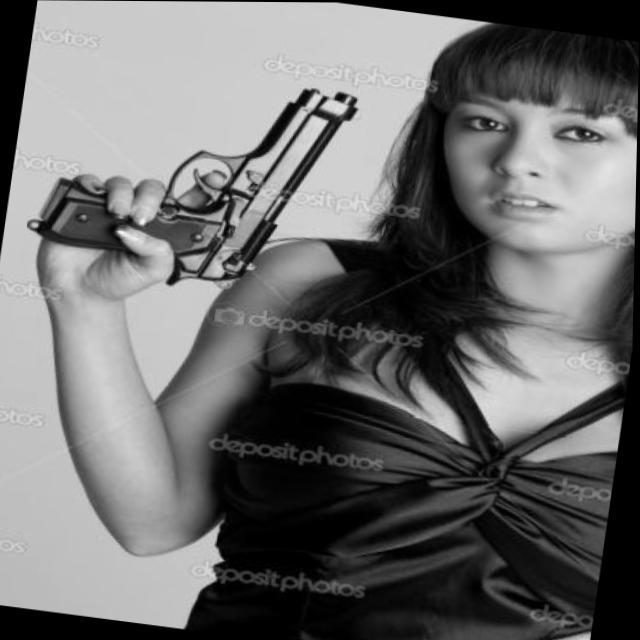weapon: (14, 44, 372, 312)
